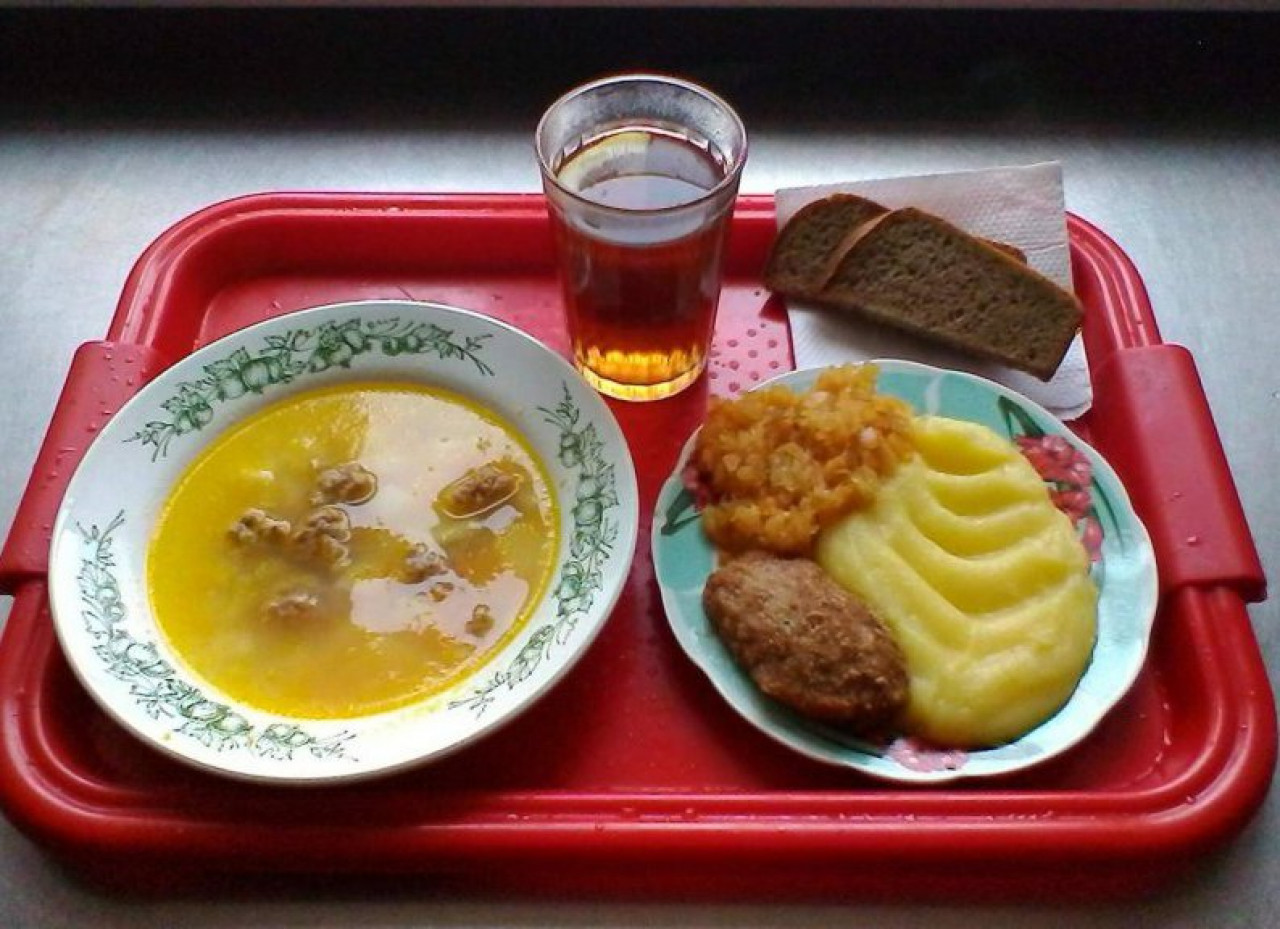bowl: (48, 299, 638, 784)
drink: (532, 66, 752, 405)
other: (762, 182, 1095, 382)
plate: (652, 361, 1161, 779)
